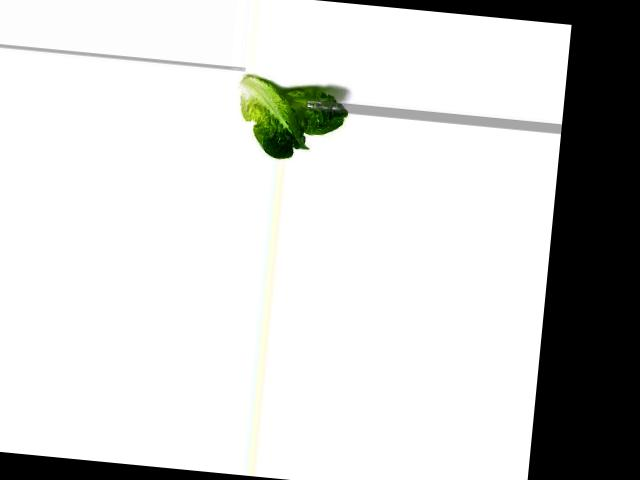lettuce: (230, 78, 353, 165)
